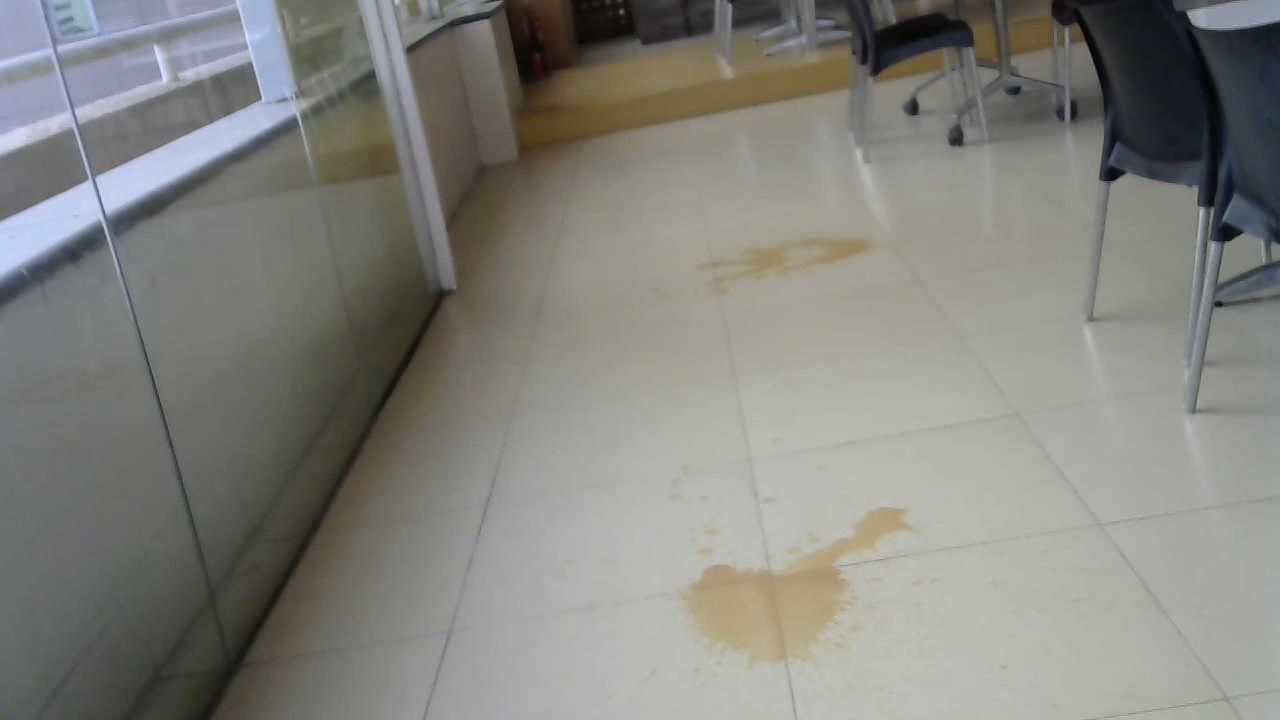dirty_floor: (670, 494, 917, 690), (690, 226, 876, 300)
